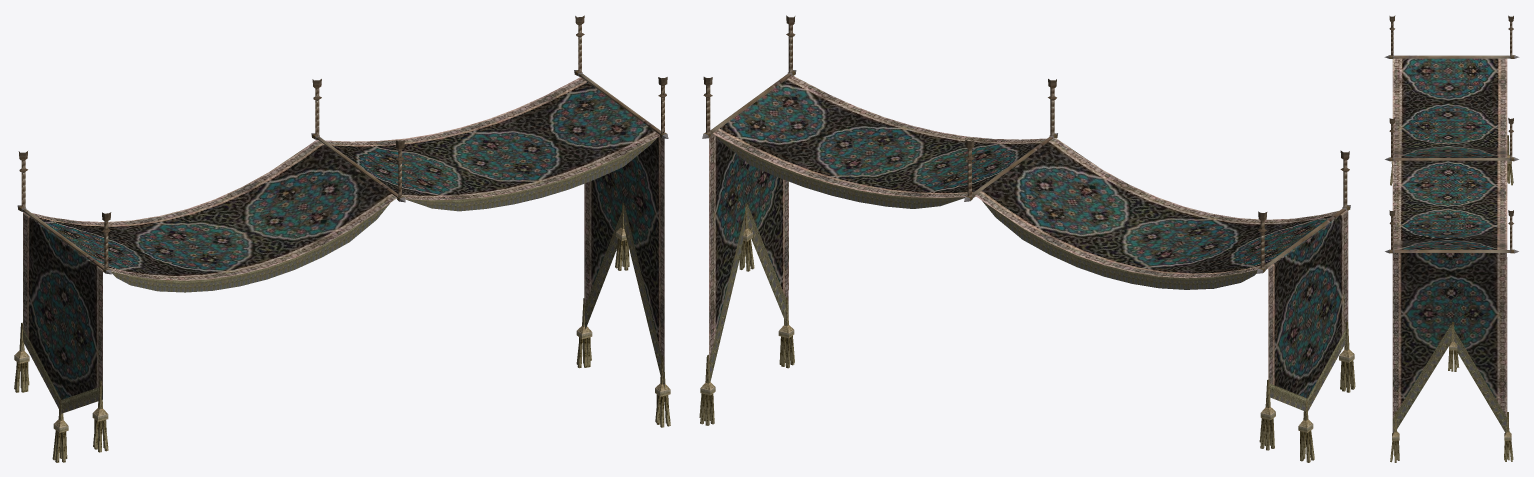
File: TW2_5_FUR_02_13-transformed.glb
The picture shows the model from 3 angles, left to right: view 1: azimuth 30°, elevation 25°; view 2: azimuth 150°, elevation 25°; view 3: azimuth 270°, elevation 25°; orthographic projection. The views are drawn at different scales.
Parts seen in each view (by area): view 1: default; view 2: default; view 3: default.
Boxes of the visible parts, box(x1,y1,x2,y2) form: default: box(14, 15, 670, 462); default: box(699, 15, 1355, 462); default: box(1384, 15, 1519, 462).
Size of the model in its own units: 8.37 by 4.86 by 2.37.
4 materials, 4 textured.
